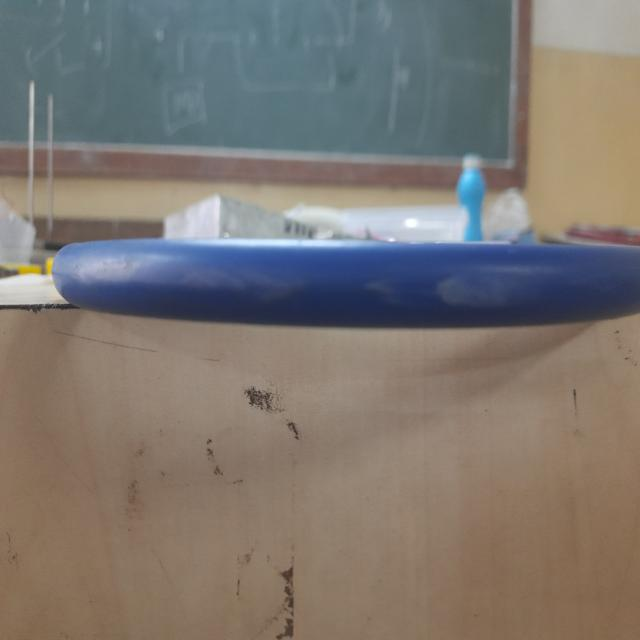daire: (62, 239, 640, 329)
